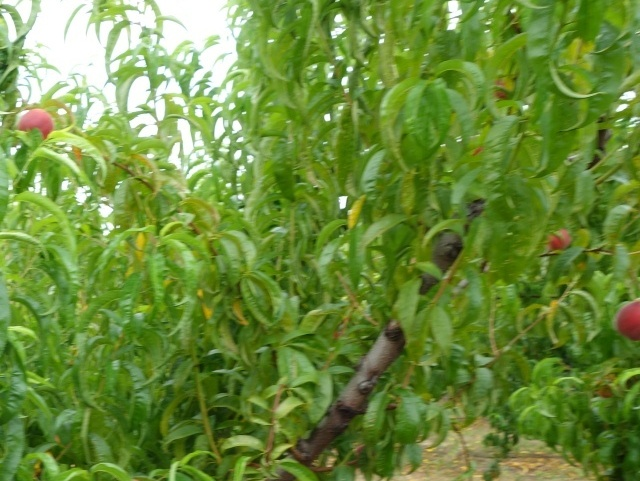peach: (14, 105, 57, 143), (612, 293, 639, 346), (545, 226, 573, 255)
